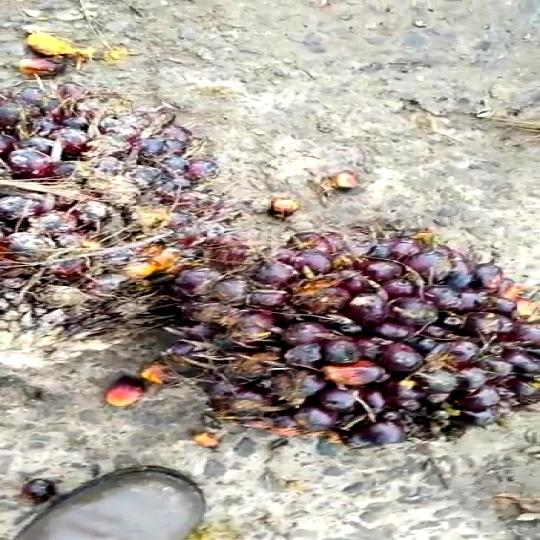kurang masak: (148, 198, 540, 430), (0, 86, 244, 382)
